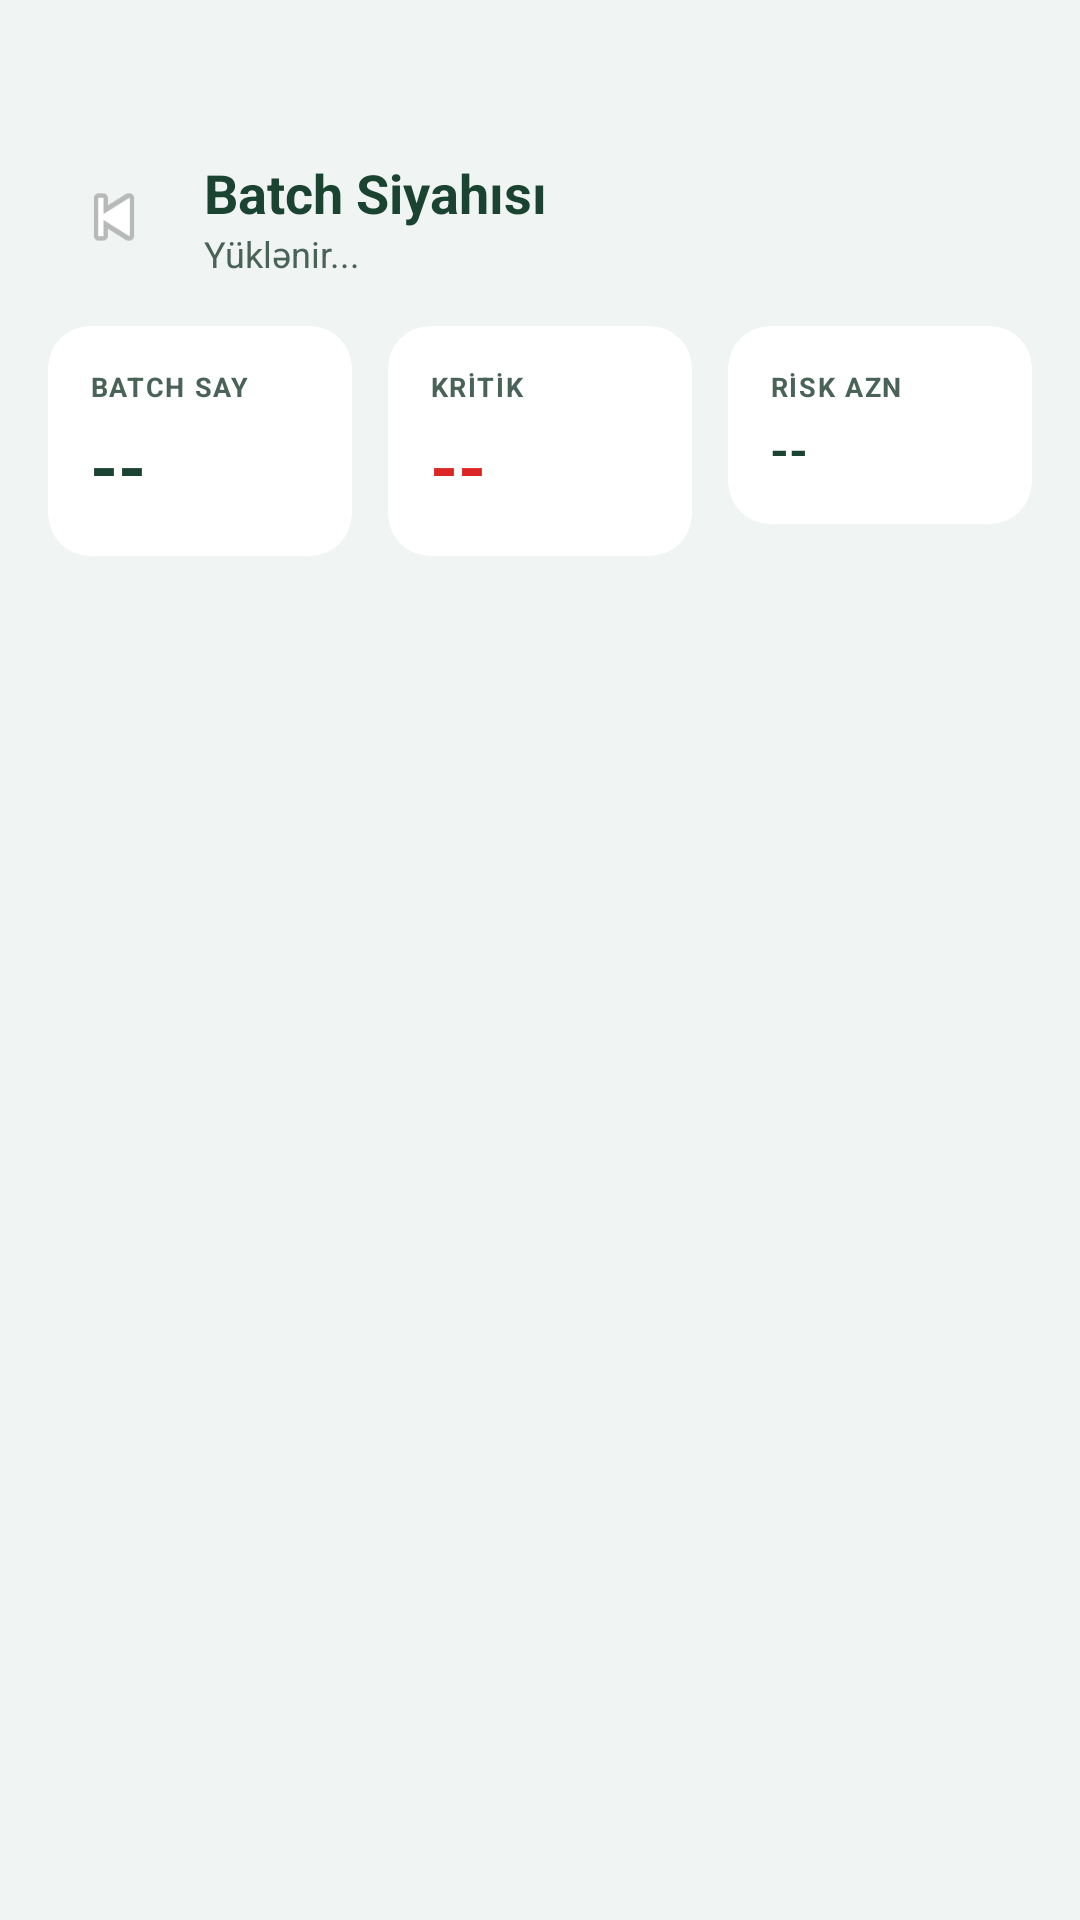

Icon click points for this 1080px x 1920px phone screenshot, format (x,y):
previous: (114,217)
